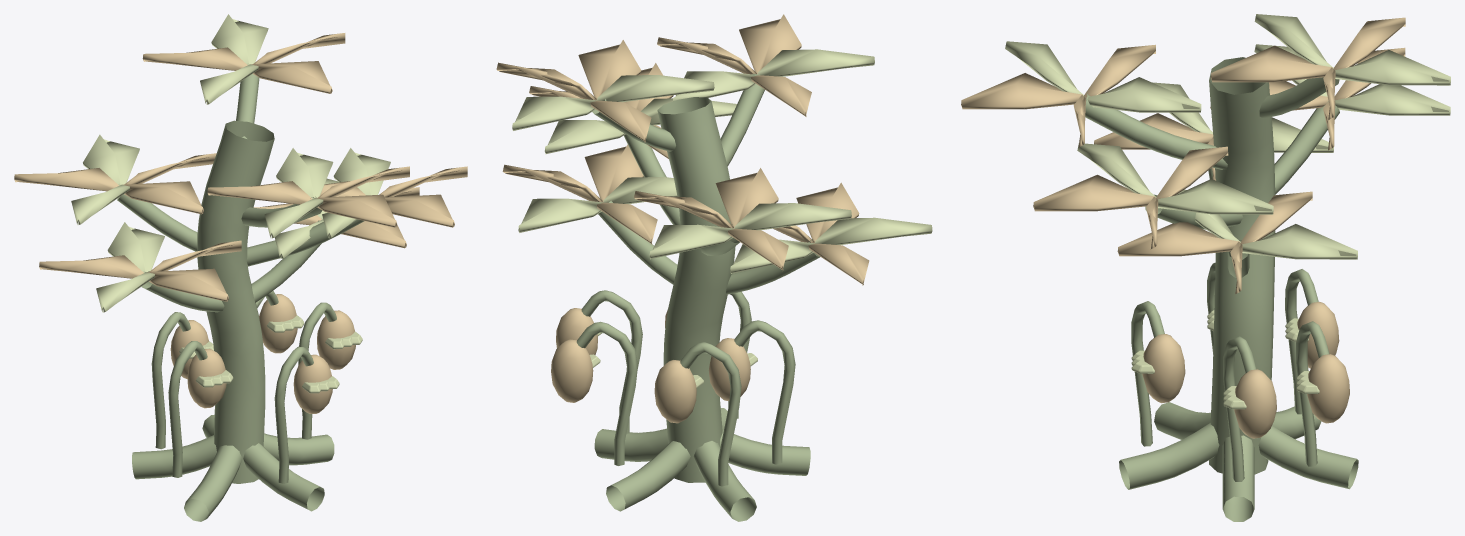
The model's file is bio_canopy_tree_03_far.glb.
The picture shows the model from 3 angles, left to right: view 1: azimuth 30°, elevation 25°; view 2: azimuth 150°, elevation 25°; view 3: azimuth 270°, elevation 25°; orthographic projection. The views are drawn at different scales.
Parts seen in each view (by area): view 1: Buttressed trunk, Broad canopy leaf.020, Broad canopy leaf.015, Broad canopy leaf.010, Broad canopy leaf.005, Broad canopy leaf.011, Broad canopy leaf.016, Broad canopy leaf.025, Broad canopy leaf.021, Broad canopy leaf.006, Broad canopy leaf.026, Arched fruit stem.004 (+10 smaller); view 2: Buttressed trunk, Broad canopy leaf.015, Broad canopy leaf.005, Broad canopy leaf.010, Broad canopy leaf, Broad canopy leaf.016, Broad canopy leaf.006, Broad canopy leaf.011, Broad canopy leaf.021, Broad canopy leaf.001, Broad canopy leaf.020, Broad canopy leaf.026 (+9 smaller); view 3: Buttressed trunk, Broad canopy leaf.015, Broad canopy leaf.025, Broad canopy leaf.010, Broad canopy leaf, Broad canopy leaf.016, Broad canopy leaf.026, Broad canopy leaf.011, Broad canopy leaf.001, Broad canopy leaf.006, Pendant spore capsule, Pendant spore capsule.002 (+9 smaller).
Part boxes in pixels (x1=…): Buttressed trunk: x1=117, y1=74, x2=364, y2=521; Broad canopy leaf.020: x1=39, y1=240, x2=241, y2=301; Broad canopy leaf.015: x1=142, y1=33, x2=345, y2=93; Broad canopy leaf.010: x1=207, y1=166, x2=409, y2=227; Broad canopy leaf.005: x1=14, y1=153, x2=216, y2=214; Broad canopy leaf.011: x1=264, y1=148, x2=333, y2=238; Broad canopy leaf.016: x1=200, y1=14, x2=268, y2=104; Broad canopy leaf.025: x1=320, y1=166, x2=467, y2=227; Broad canopy leaf.021: x1=96, y1=222, x2=164, y2=312; Broad canopy leaf.006: x1=71, y1=134, x2=139, y2=224; Broad canopy leaf.026: x1=322, y1=148, x2=390, y2=238; Arched fruit stem.004: x1=168, y1=341, x2=207, y2=477; Buttressed trunk: x1=592, y1=73, x2=820, y2=521; Broad canopy leaf.015: x1=496, y1=40, x2=651, y2=142; Broad canopy leaf.005: x1=634, y1=168, x2=788, y2=270; Broad canopy leaf.010: x1=657, y1=14, x2=811, y2=116; Broad canopy leaf: x1=502, y1=144, x2=657, y2=244; Broad canopy leaf.016: x1=512, y1=75, x2=714, y2=130; Broad canopy leaf.006: x1=649, y1=203, x2=851, y2=259; Broad canopy leaf.011: x1=672, y1=49, x2=874, y2=101; Broad canopy leaf.021: x1=730, y1=217, x2=932, y2=273; Broad canopy leaf.001: x1=518, y1=177, x2=677, y2=232; Broad canopy leaf.020: x1=773, y1=182, x2=869, y2=285; Broad canopy leaf.026: x1=544, y1=98, x2=736, y2=154; Buttressed trunk: x1=1085, y1=57, x2=1358, y2=521; Broad canopy leaf.015: x1=1210, y1=17, x2=1405, y2=119; Broad canopy leaf.025: x1=1033, y1=146, x2=1228, y2=249; Broad canopy leaf.010: x1=961, y1=44, x2=1155, y2=147; Broad canopy leaf: x1=1117, y1=191, x2=1312, y2=293; Broad canopy leaf.016: x1=1254, y1=14, x2=1450, y2=85; Broad canopy leaf.026: x1=1077, y1=143, x2=1273, y2=214; Broad canopy leaf.011: x1=1005, y1=41, x2=1201, y2=112; Broad canopy leaf.001: x1=1177, y1=189, x2=1357, y2=259; Broad canopy leaf.006: x1=1254, y1=44, x2=1450, y2=115; Pendant spore capsule: x1=1234, y1=369, x2=1276, y2=438; Pendant spore capsule.002: x1=1142, y1=334, x2=1185, y2=403.
Bounding box in the file's own units: 2.97 × 2.99 × 2.93.
